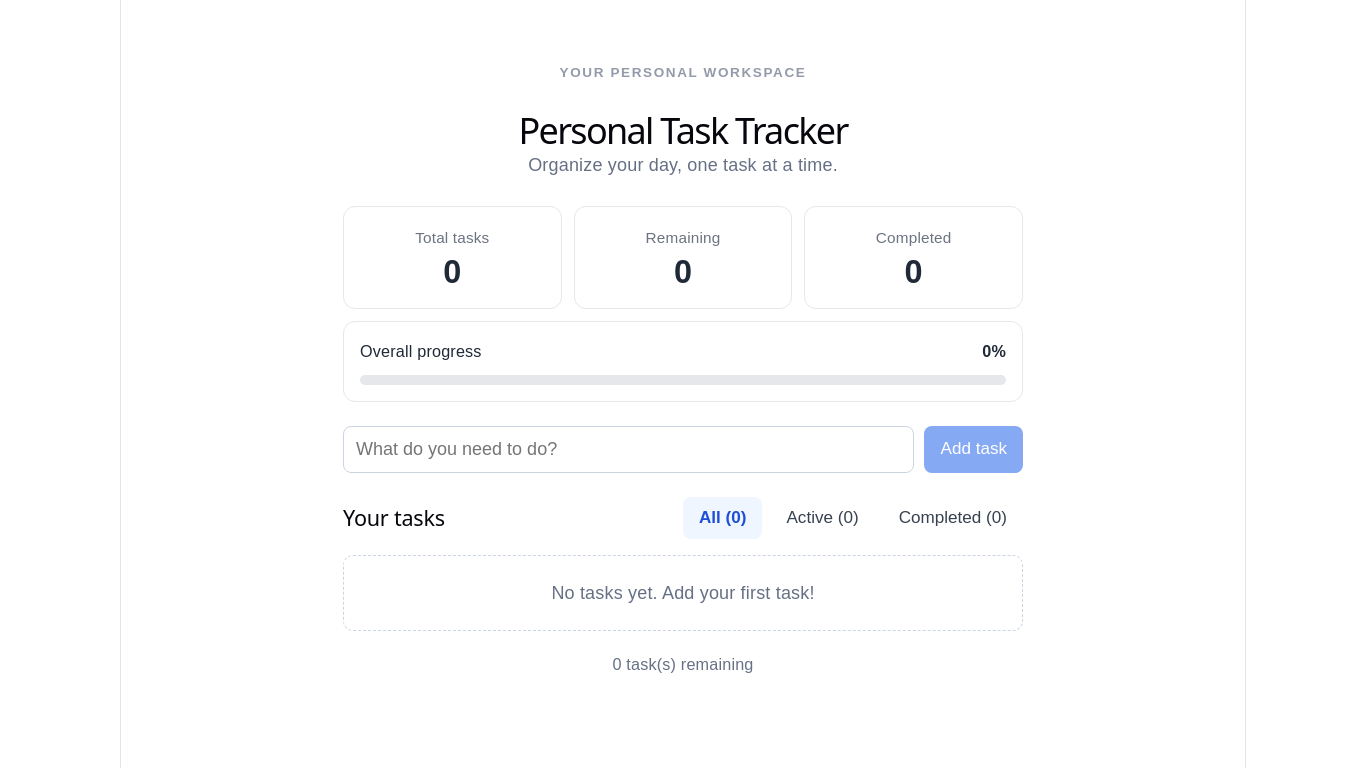
it: Personal Task Tracker › adds a new task
The width and height of the screenshot is (1366, 768).
In the field named "new task title": (629, 449) 343,426 -> 914,473, type "Learn Kubernetes"
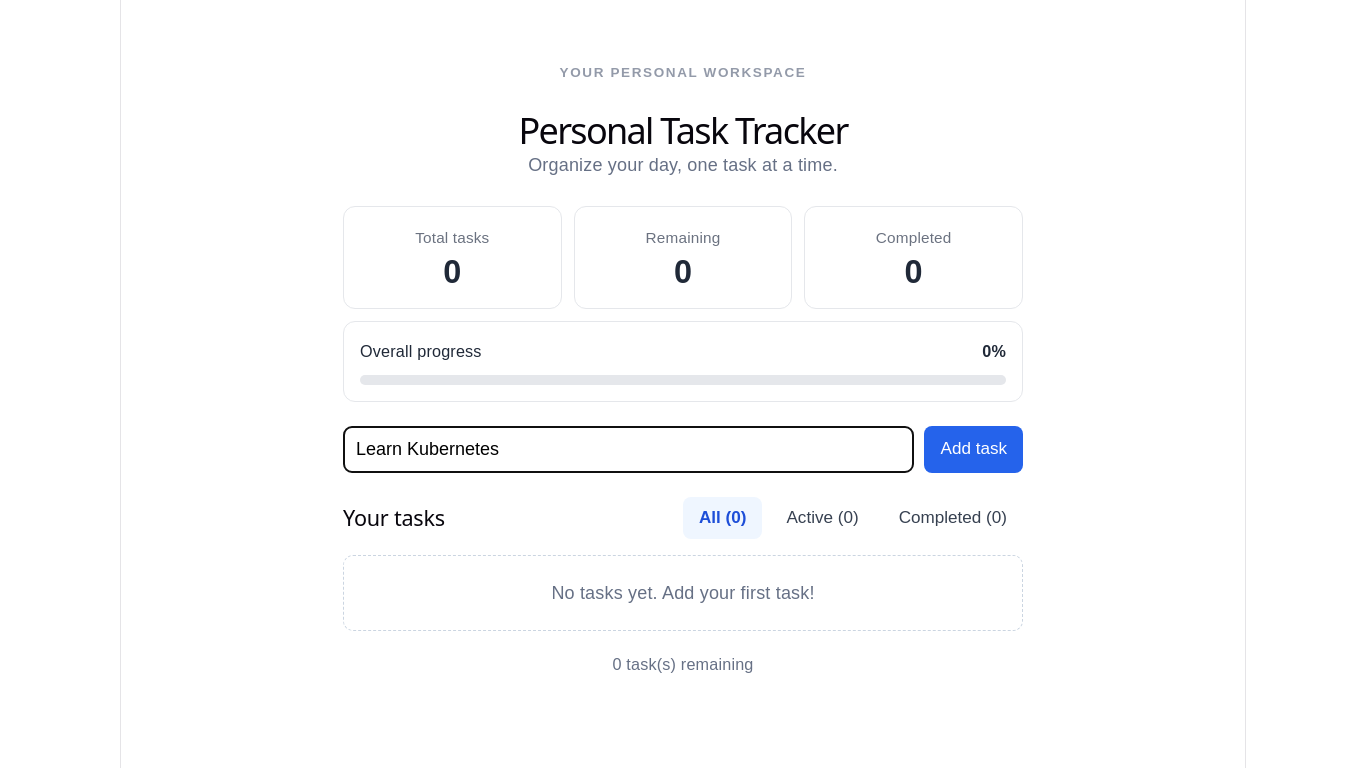
Click the button "Add task": (974, 449) 924,426 -> 1023,473
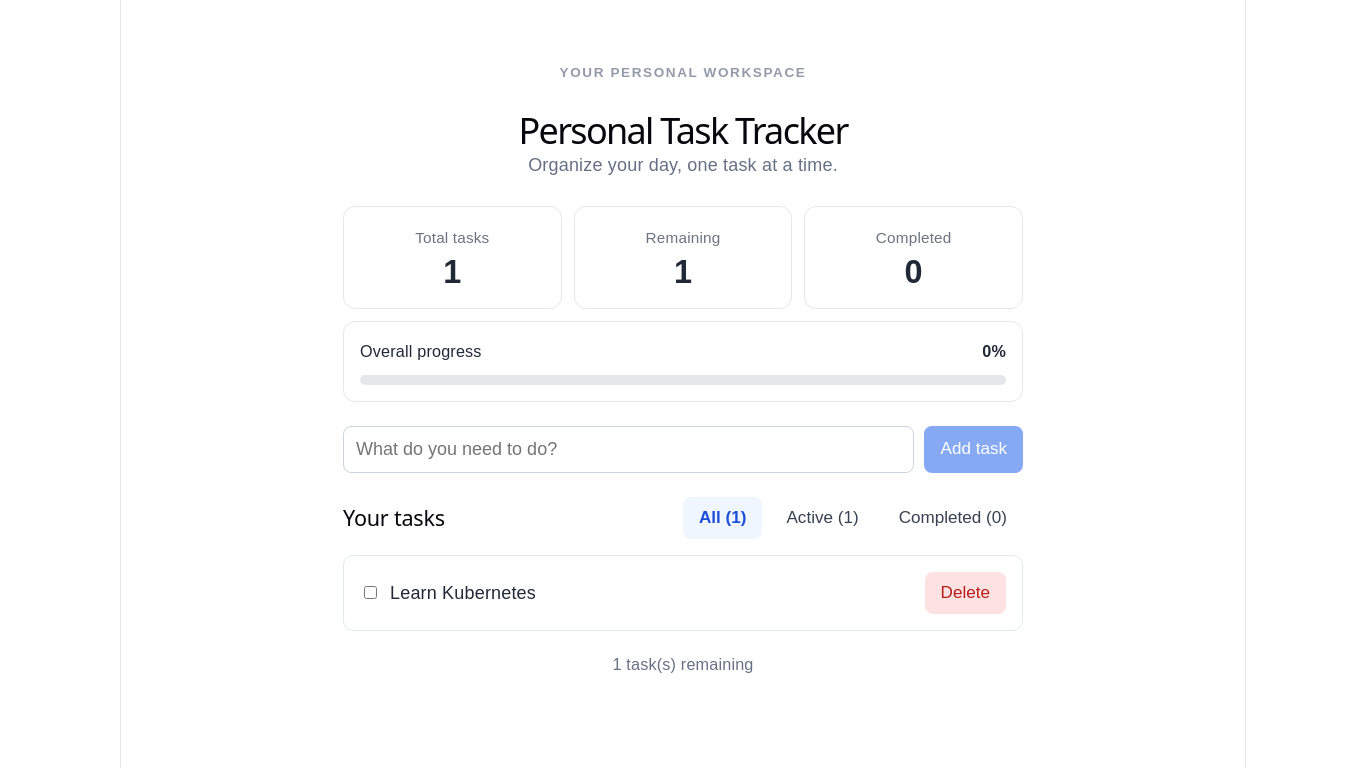
Expected: the text "Learn Kubernetes" is shown, 390,580 -> 536,606
